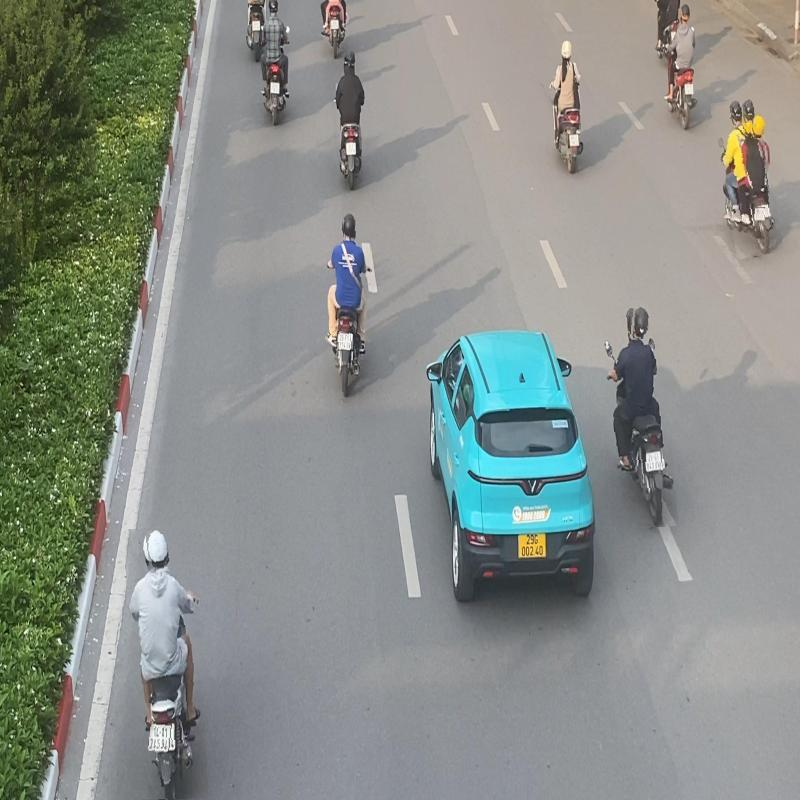helmet: (146, 528, 172, 572), (631, 305, 651, 339), (342, 210, 358, 241), (752, 113, 766, 138), (742, 99, 755, 123)
licenseplate: (148, 722, 172, 753), (646, 451, 662, 474), (338, 332, 353, 352), (754, 207, 765, 221)
motorcyclist: (126, 527, 204, 800), (605, 304, 675, 529), (717, 98, 778, 258), (324, 212, 373, 400)
